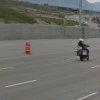Motorcycle: (72, 33, 94, 63)
